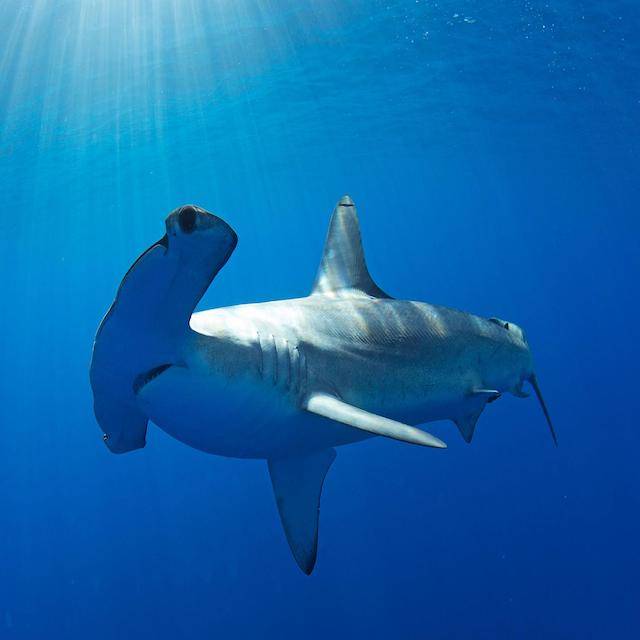hammerhead: (85, 201, 463, 565)
